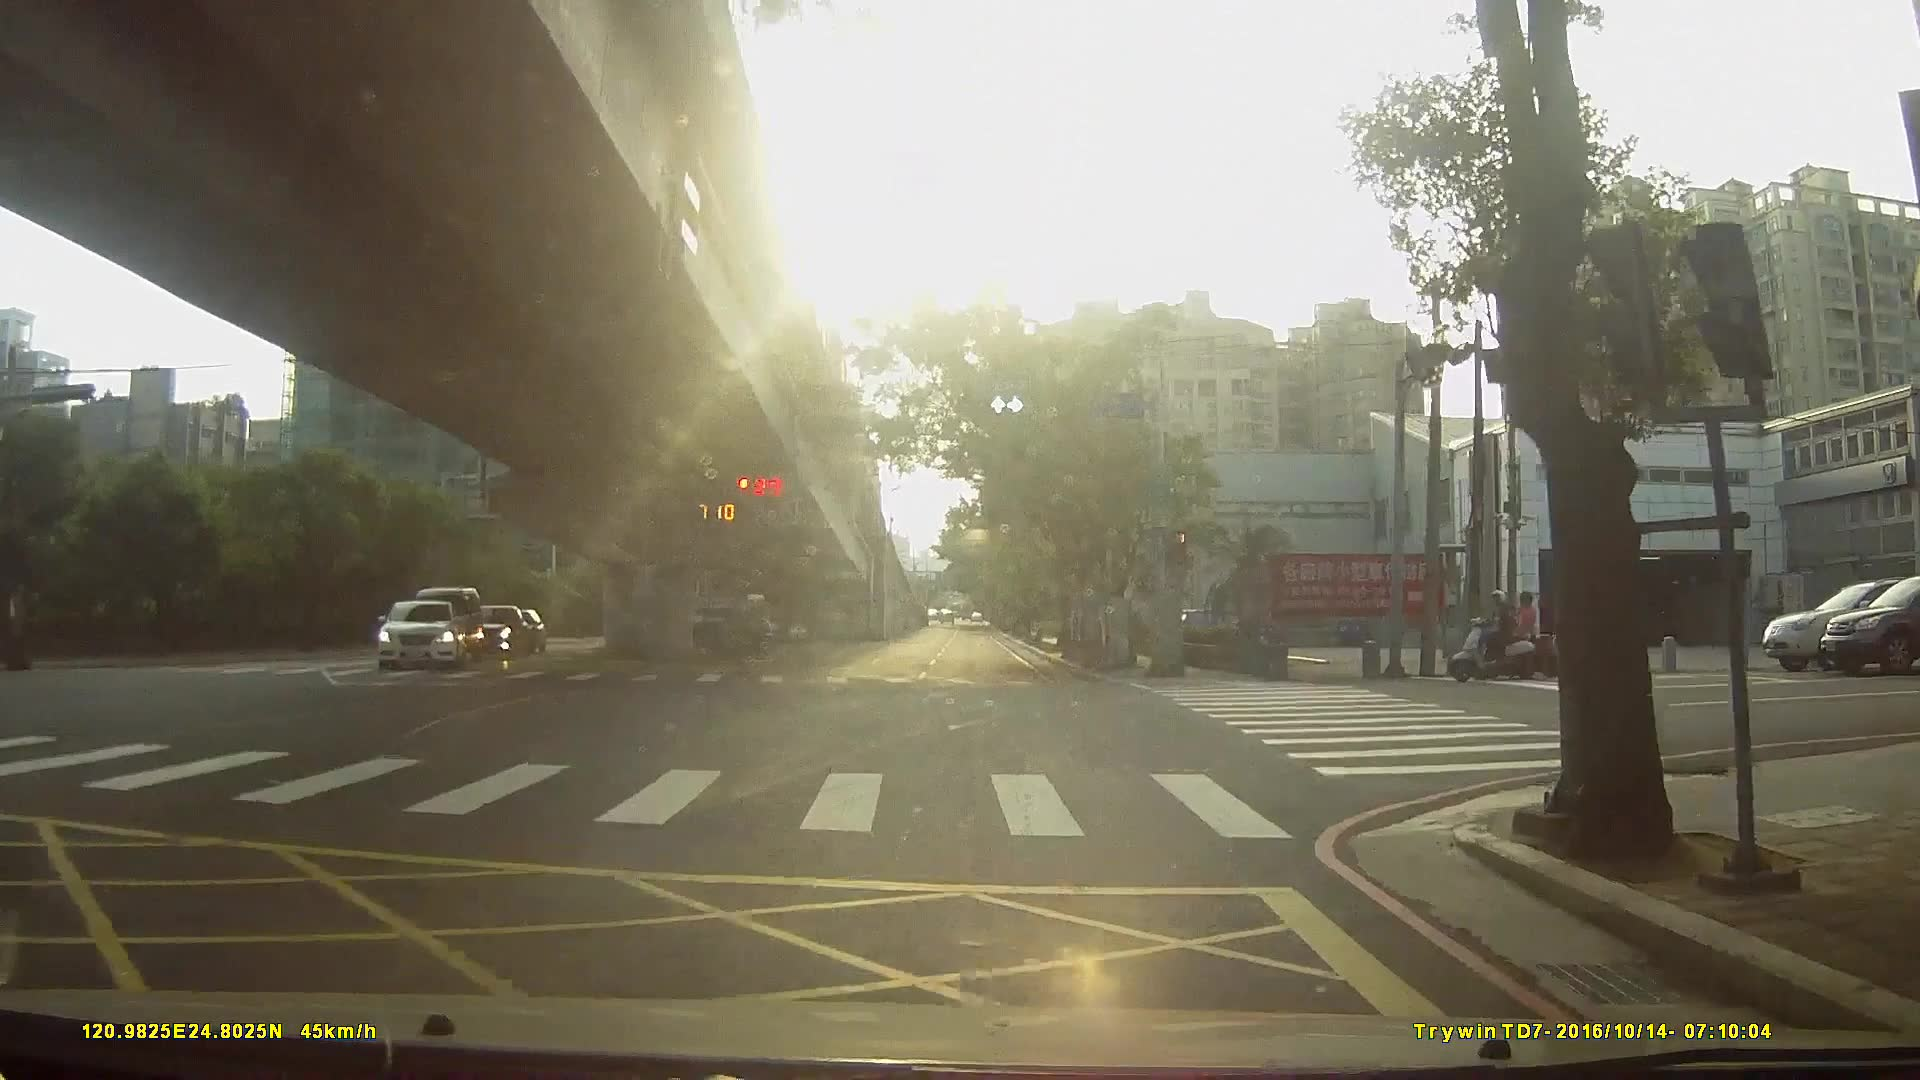rider: (1452, 589, 1538, 681)
vehicle: (1770, 577, 1920, 676), (1827, 575, 1919, 677), (666, 603, 770, 664), (370, 603, 457, 676), (458, 608, 529, 661)
